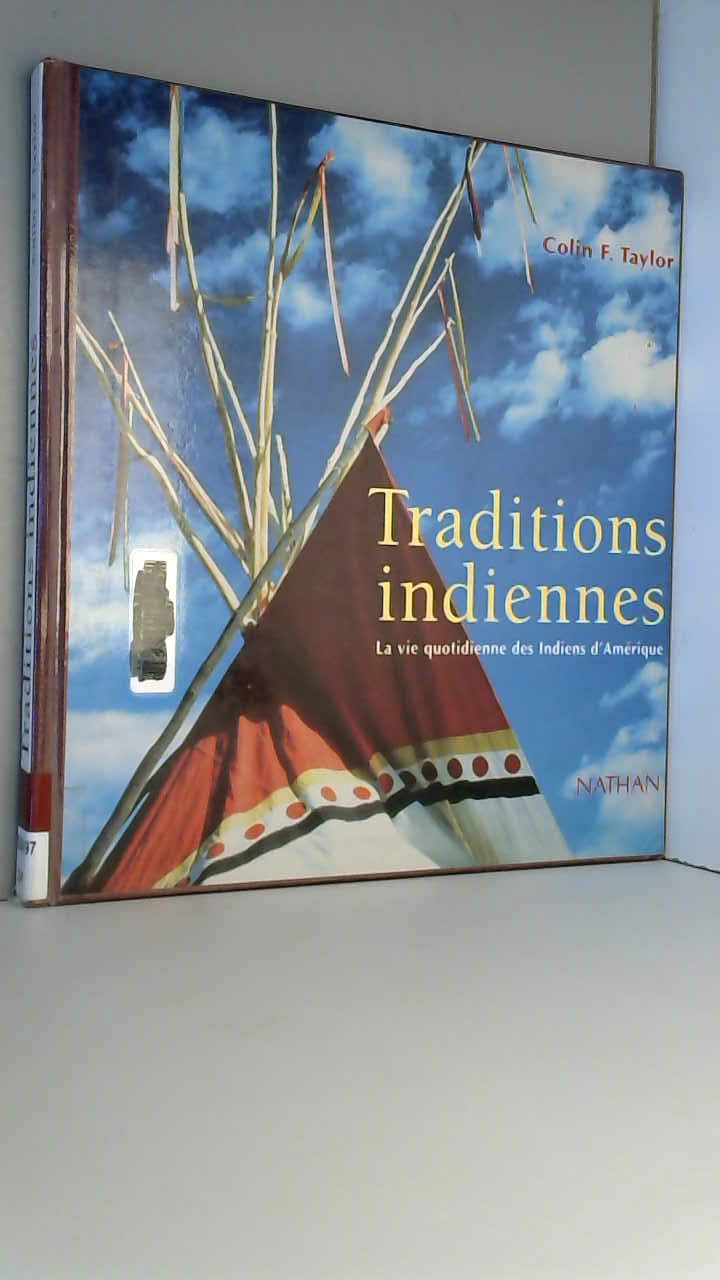book: (6, 43, 712, 941)
